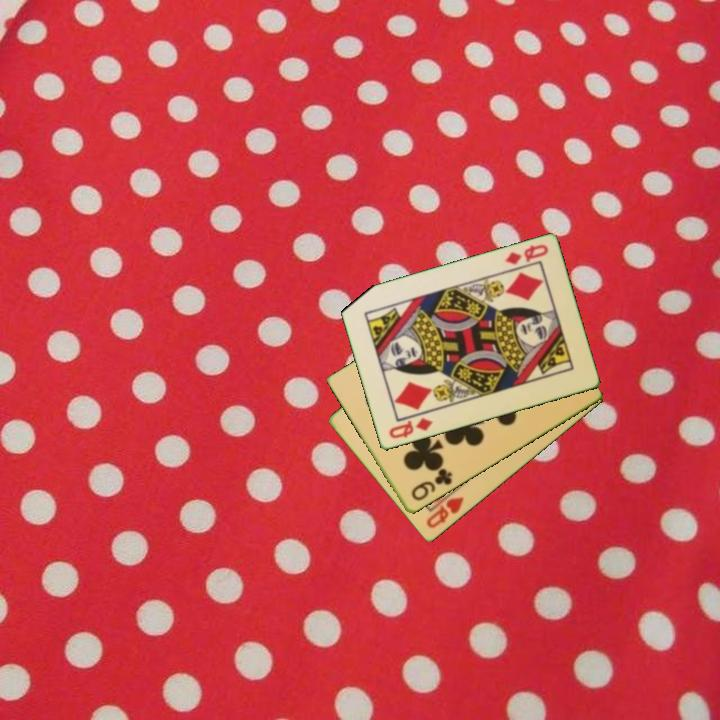9c: (408, 465, 455, 504)
Qd: (385, 414, 435, 442), (501, 241, 551, 268)
Qh: (423, 493, 467, 532)
